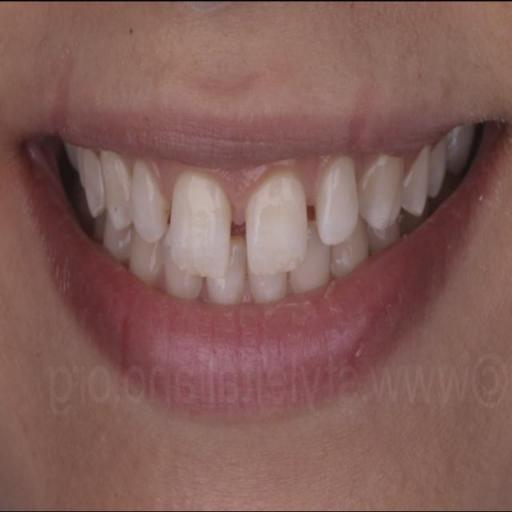spaced: (221, 209, 253, 245), (302, 192, 322, 230)
